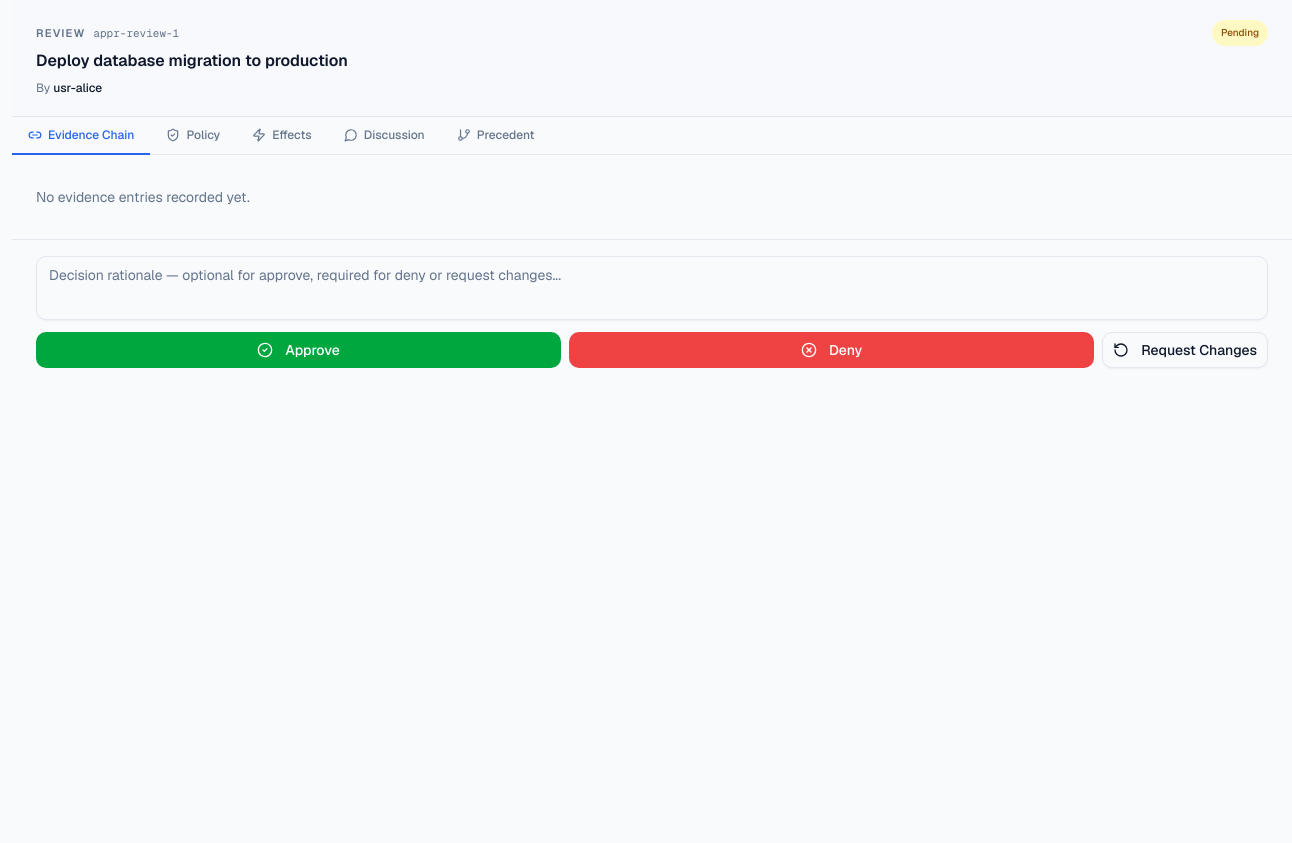
Test: ApprovalReviewPanel — tabs › switches to precedent tab and shows policy conversion workflow
Click the tab "Precedent".
click(496, 136)  # box [441, 117, 550, 155]
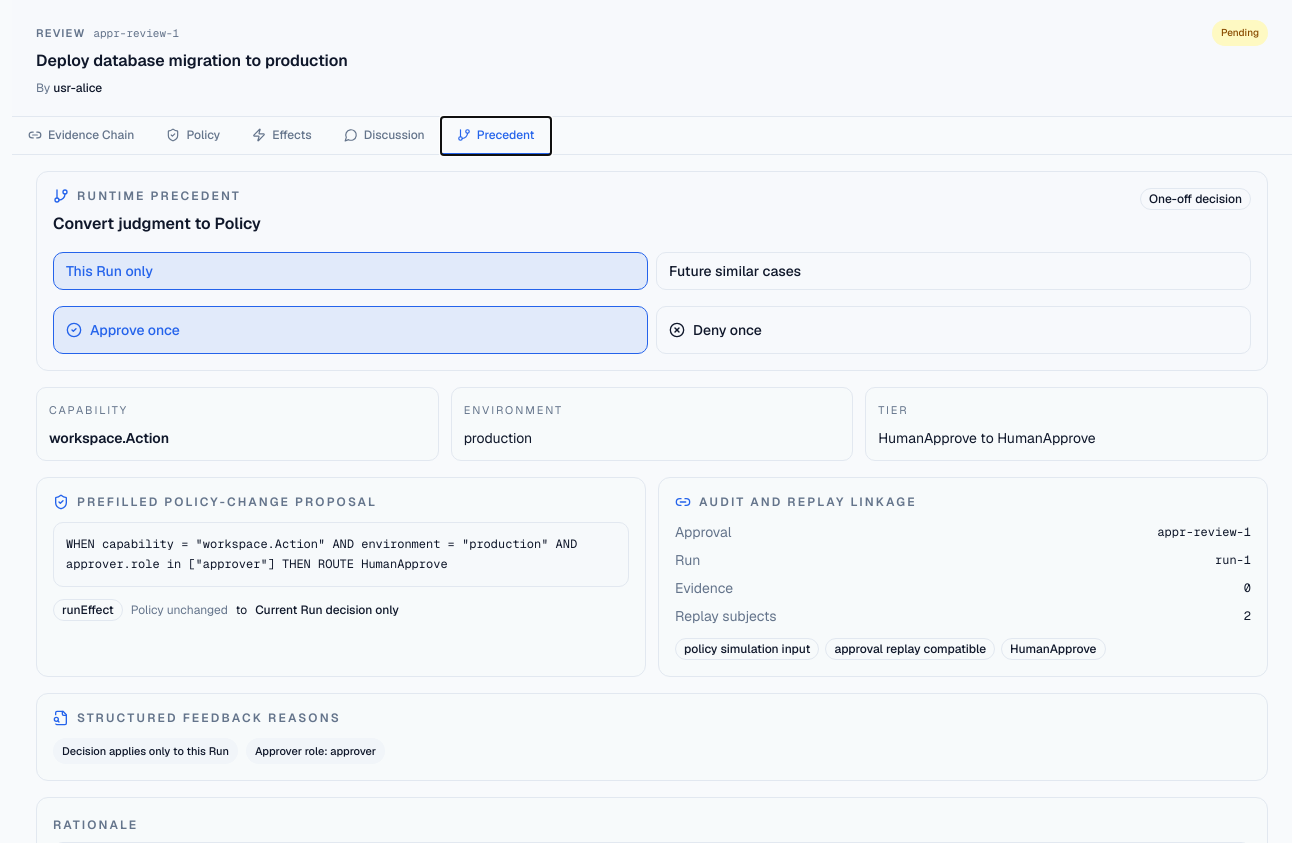
Result: the heading "Convert judgment to Policy" is shown at [53, 212, 261, 236]
Result: the button "Approve once" is shown at [53, 306, 648, 354]
Result: the button "Future similar cases" is shown at [656, 252, 1251, 290]
